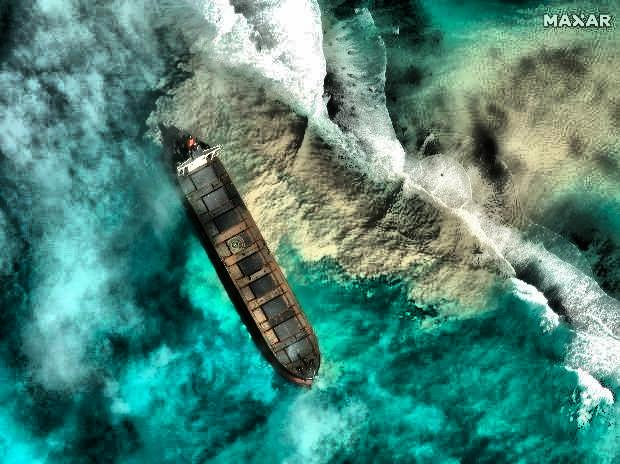truecolor: (160, 56, 506, 314), (418, 25, 620, 226)
